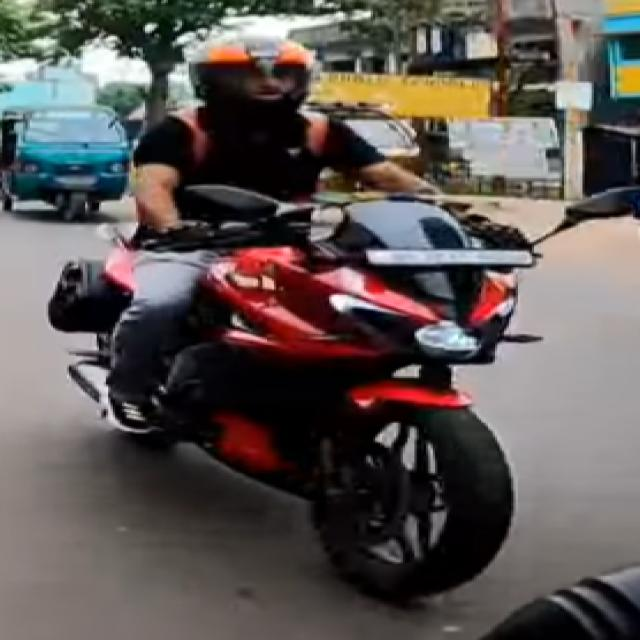WITH_HELMET: (176, 36, 328, 121)
normal: (126, 28, 519, 366)
